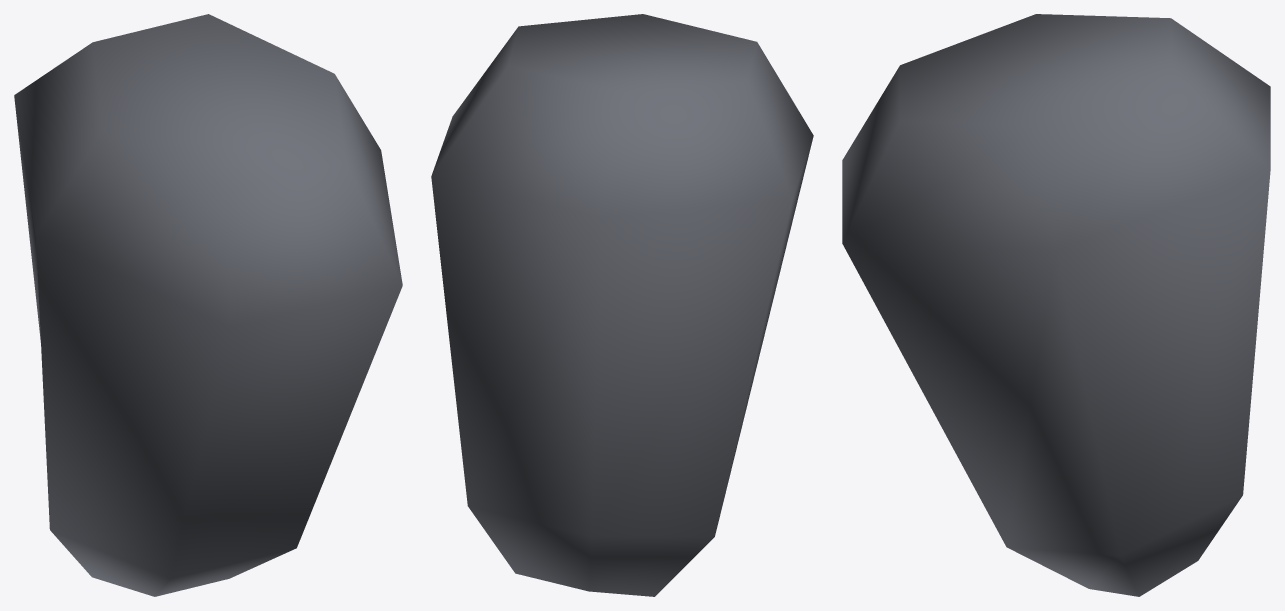
Rendered from Char_FL_Body3.FBX.
3 renders of one model, left to right at view 1: azimuth 30°, elevation 25°; view 2: azimuth 150°, elevation 25°; view 3: azimuth 270°, elevation 25°, orthographic.
Visible parts, largest first — view 1: Cylinder001; view 2: Cylinder001; view 3: Cylinder001.
Boxes of the visible parts, left/top/right/bottom form: Cylinder001: left=14, top=14, right=402, bottom=596; Cylinder001: left=431, top=14, right=813, bottom=596; Cylinder001: left=842, top=14, right=1270, bottom=596.
Size of the model in its own units: 15.87 by 23.24 by 17.19.
